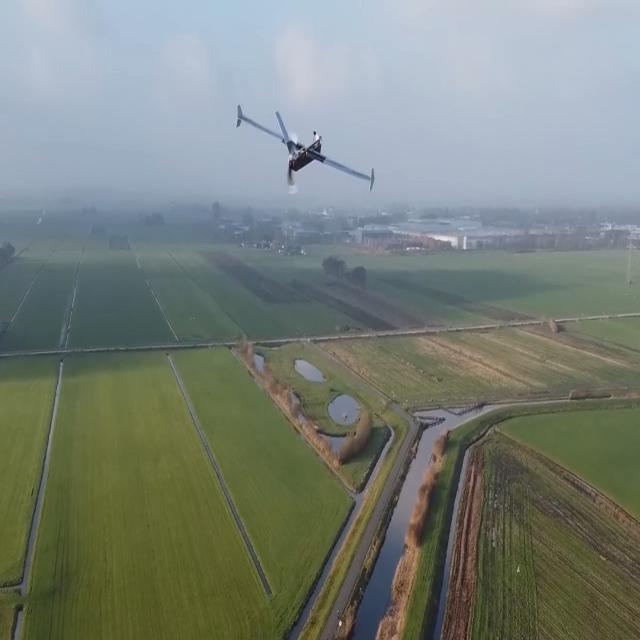iha: (234, 132, 376, 163)
